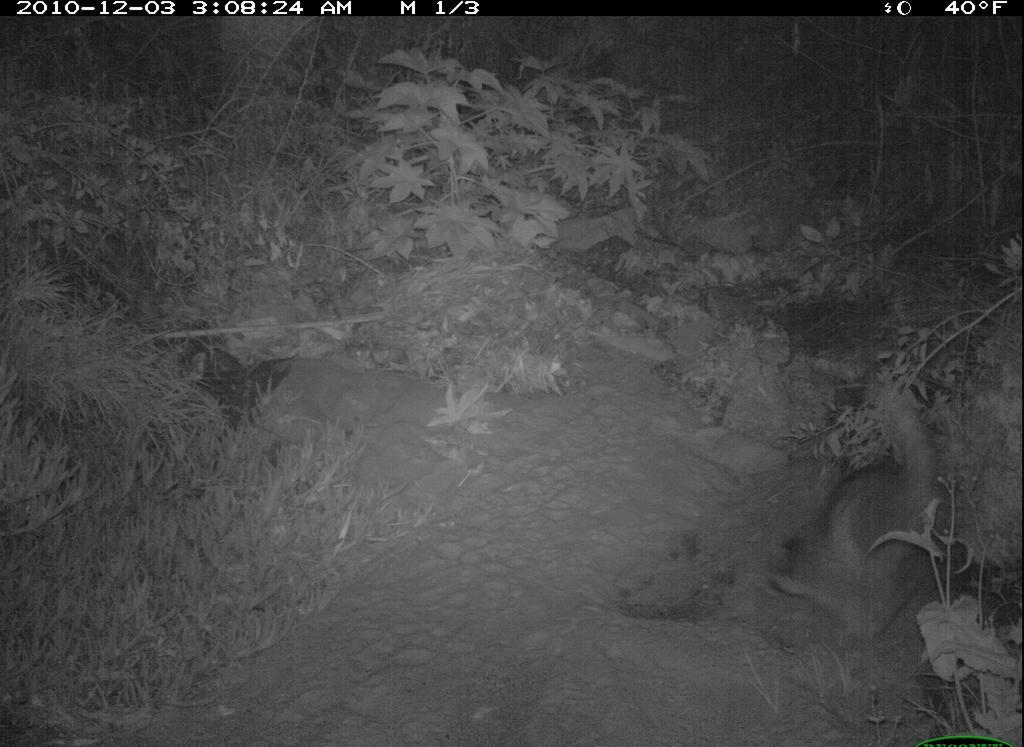raccoon: (765, 381, 948, 660)
